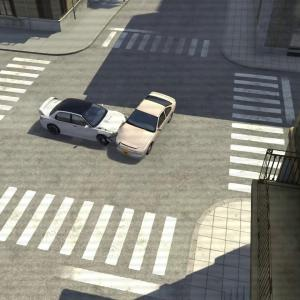significant: (38, 89, 179, 161)
